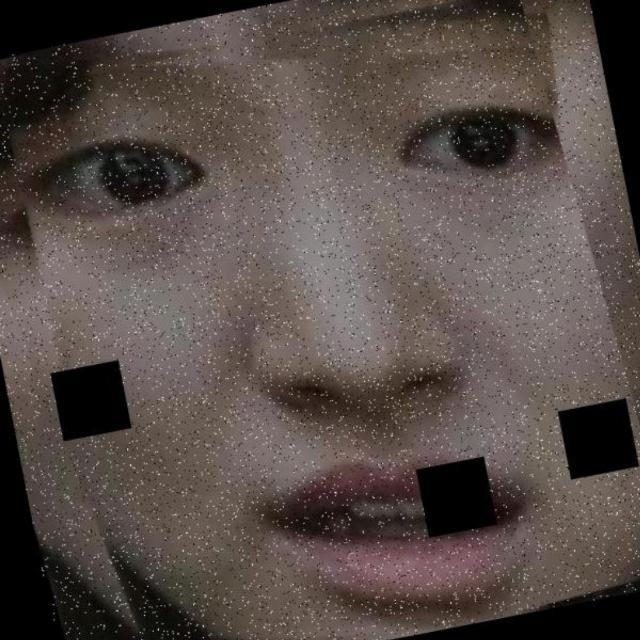surprised: (41, 75, 640, 640)
